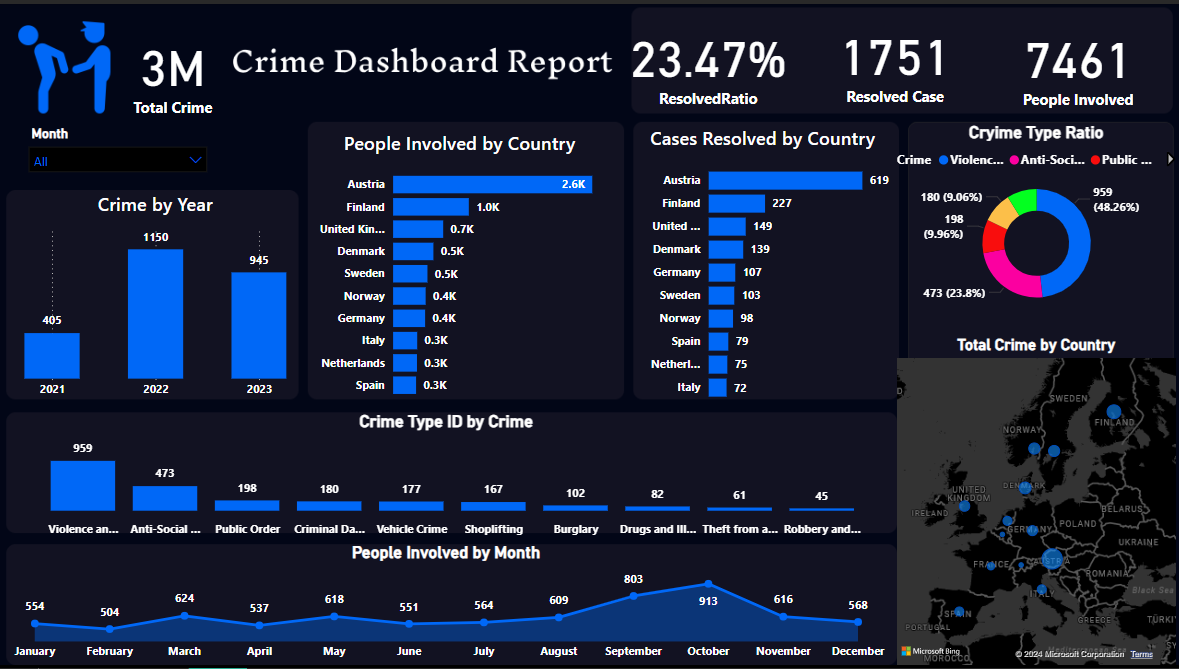

What the dashboard file says about the page in this screenshot:
{"tool":"powerbi","page":{"name":"DashBoard","canvas":[1280,720],"ordinal":0},"visuals":[{"type":"card","fields":{"Values":["Sum(Data.People Involved)"]},"box":[1073.5,0,190.3,128.5],"z":0},{"type":"card","fields":{"Values":["Sum(Data.Resolved)"]},"box":[885.7,0,167.5,123.6],"z":1000},{"type":"clusteredBarChart","title":"People Involved by Country","fields":{"Category":["Data.Country"],"Y":["Sum(Data.People Involved)"]},"box":[326.9,136.6,343.2,300.9],"z":2000},{"type":"clusteredBarChart","title":"Cases Resolved by Country","fields":{"Category":["Data.Country"],"Y":["Sum(Data.Resolved)"]},"box":[683.1,131.8,287.9,309],"z":3000},{"type":"card","fields":{"Values":["Measurement.Ratio"]},"box":[670.1,0,195.2,126.9],"z":4000},{"type":"slicer","fields":{"Values":["Data.Crime Date.Variation.Date Hierarchy.Month"]},"box":[21.2,127.2,213.5,77.2],"z":5000},{"type":"card","fields":{"Values":["Measurement.Total Crime"]},"box":[109,9.8,156.1,126.9],"z":6000},{"type":"columnChart","title":"Crime  by Year","fields":{"Category":["Data.Crime Date.Variation.Date Hierarchy.Year","Data.Crime Date.Variation.Date Hierarchy.Quarter","Data.Crime Date.Variation.Date Hierarchy.Month","Data.Crime Date.Variation.Date Hierarchy.Day"],"Y":["CountNonNull(Data.Crime ID)"]},"box":[21.1,203.3,294.4,232.6],"z":7000},{"type":"areaChart","title":"People Involved by Month","fields":{"Y":["Sum(Data.People Involved)"],"Category":["Data.Crime Date.Variation.Date Hierarchy.Year","Data.Crime Date.Variation.Date Hierarchy.Quarter","Data.Crime Date.Variation.Date Hierarchy.Month","Data.Crime Date.Variation.Date Hierarchy.Day"]},"box":[0,584,967.6,136],"z":8000},{"type":"map","fields":{"Category":["Data.Country"],"Size":["Measurement.Total Crime"]},"box":[967.6,358.9,311.9,361.9],"z":9000},{"type":"columnChart","title":"Crime Type ID by Crime","fields":{"Category":["Crime Types.Crime"],"Y":["CountNonNull(Data.Crime Type ID)"]},"box":[0,442.3,967.6,141.7],"z":10000},{"type":"donutChart","title":"Cryime Type Ratio","fields":{"Category":["Crime Types.Crime"],"Y":["CountNonNull(Data.Crime ID)"]},"box":[967.6,128.7,311.9,212],"z":11000}]}

Visuals, with their boxes in screenshot pixels (x1, y1, x2, y2), scaled from the page's 1280x720 canvas onto the 1179x669 screenshot:
card - Sum(Data.People Involved): [989,0,1164,119]
card - Sum(Data.Resolved): [816,0,970,115]
"People Involved by Country" clusteredBarChart: [301,127,617,407]
"Cases Resolved by Country" clusteredBarChart: [629,122,894,410]
card - Measurement.Ratio: [617,0,797,118]
slicer - Data.Crime Date.Variation.Date Hierarchy.Month: [20,118,216,190]
card - Measurement.Total Crime: [100,9,244,127]
"Crime  by Year" columnChart: [19,189,291,405]
"People Involved by Month" areaChart: [0,543,891,668]
map - Data.Country x Measurement.Total Crime: [891,333,1178,668]
"Crime Type ID by Crime" columnChart: [0,411,891,543]
"Cryime Type Ratio" donutChart: [891,120,1178,317]
